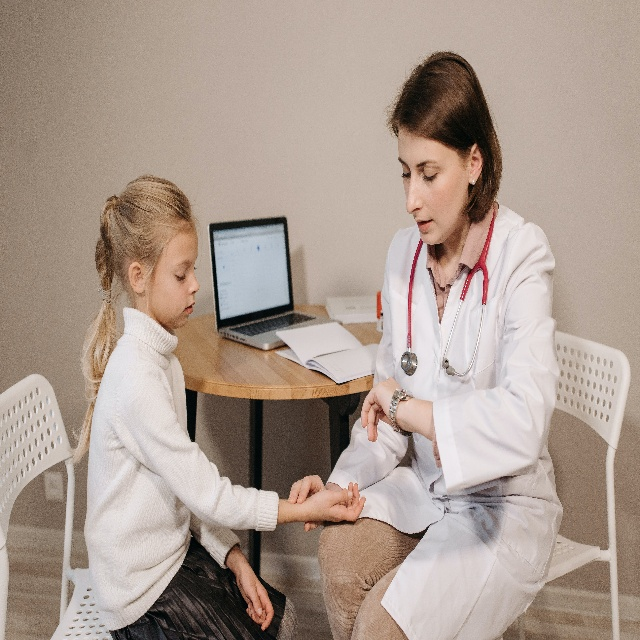Sin_guantes: (360, 374, 401, 444), (235, 559, 274, 632), (308, 482, 367, 521), (287, 473, 324, 533)
